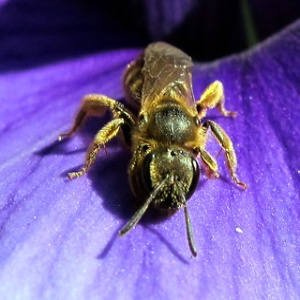bee: (56, 39, 243, 266)
